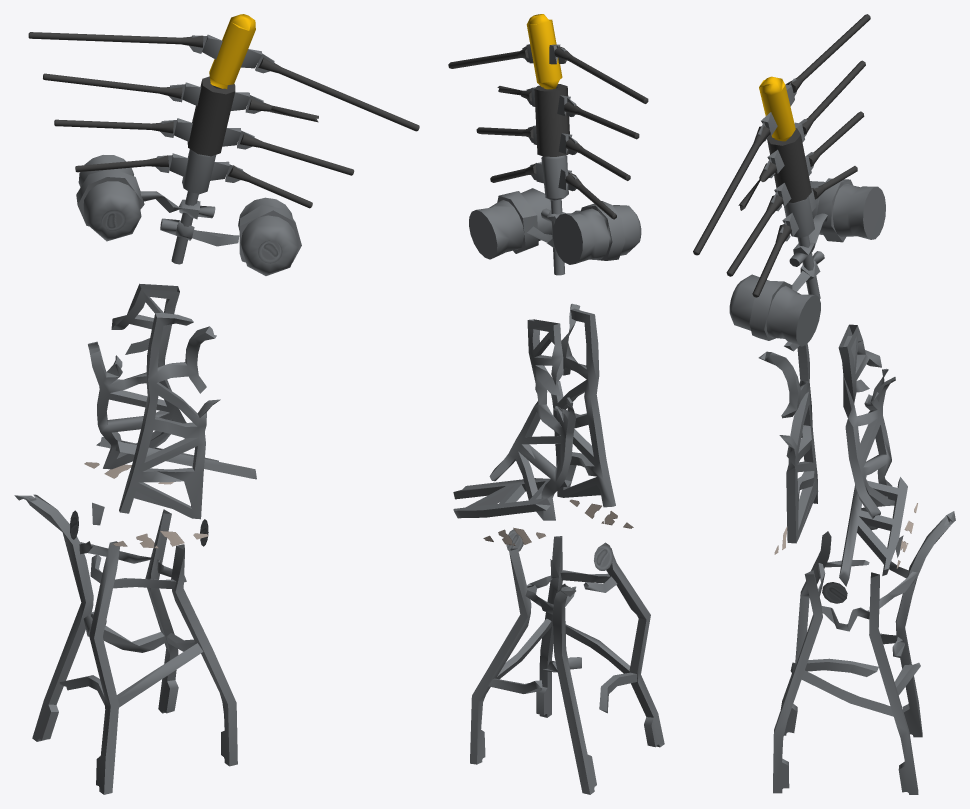
File: env_ruin_antenna_lod1.fbx
3 renders of one model, left to right at view 1: azimuth 30°, elevation 25°; view 2: azimuth 150°, elevation 25°; view 3: azimuth 270°, elevation 25°, orthographic. The views are drawn at different scales.
Visible parts, largest first — view 1: env_ruin_antenna_lod1; view 2: env_ruin_antenna_lod1; view 3: env_ruin_antenna_lod1.
Part boxes in pixels (x1=…): env_ruin_antenna_lod1: x1=14, y1=14, x2=419, y2=794; env_ruin_antenna_lod1: x1=448, y1=14, x2=664, y2=794; env_ruin_antenna_lod1: x1=693, y1=14, x2=955, y2=794.
Size of the model in its own units: 53.96 by 128 by 42.4.
